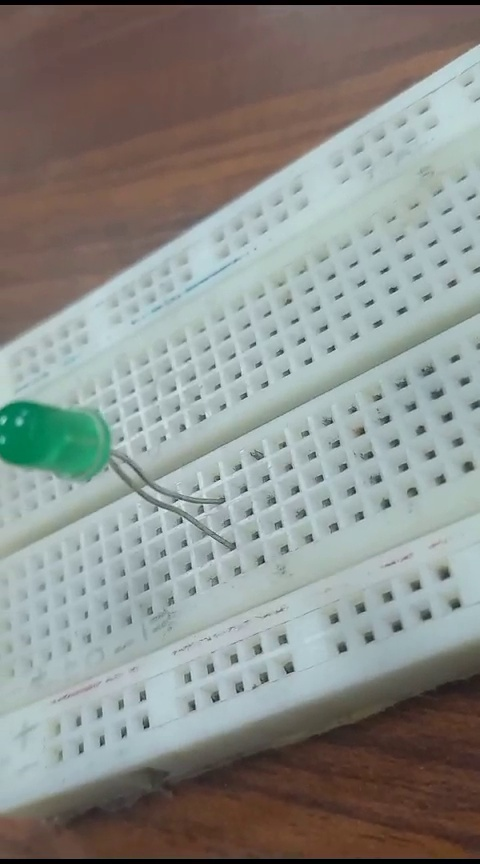LED: (3, 393, 242, 560)
